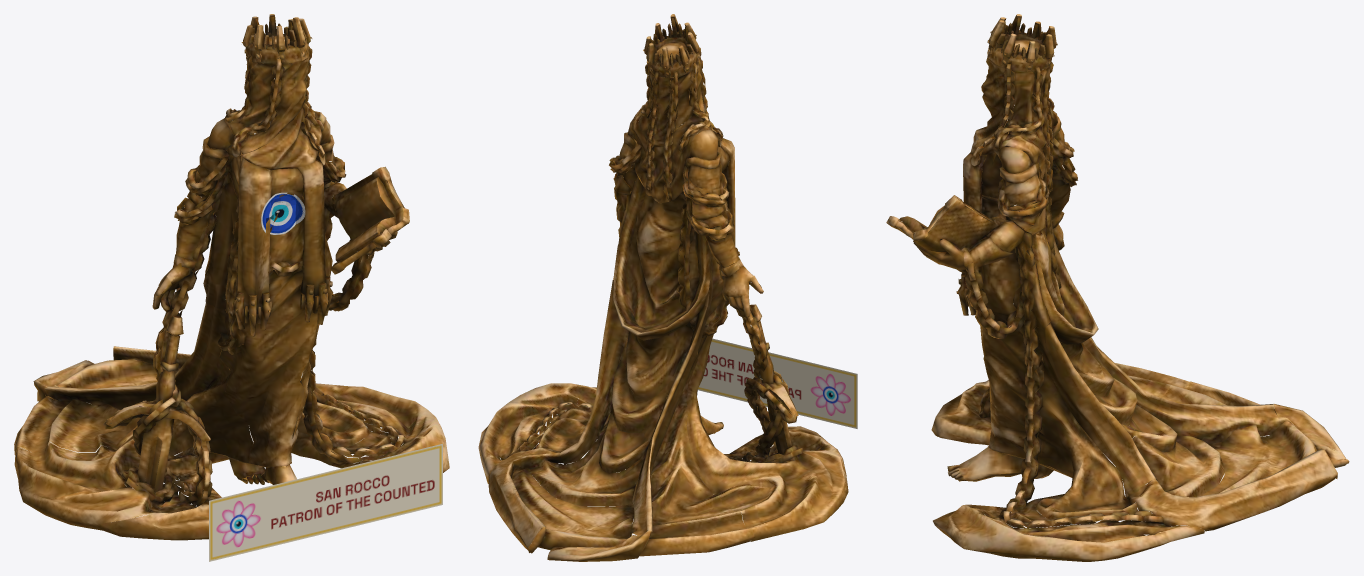
The model's file is nyb_feast_saint.glb.
The picture shows the model from 3 angles, left to right: view 1: azimuth 30°, elevation 25°; view 2: azimuth 150°, elevation 25°; view 3: azimuth 270°, elevation 25°; orthographic projection. The views are drawn at different scales.
Visible parts, largest first — view 1: gothic_statue, add_lbl_18ad00071d.png, stk_nazar_die.png; view 2: gothic_statue, add_lbl_18ad00071d.png; view 3: gothic_statue.
Part boxes in pixels (x1=…): gothic_statue: x1=14, y1=14, x2=449, y2=540; add_lbl_18ad00071d.png: x1=209, y1=443, x2=442, y2=561; stk_nazar_die.png: x1=261, y1=192, x2=305, y2=234; gothic_statue: x1=478, y1=14, x2=848, y2=561; add_lbl_18ad00071d.png: x1=697, y1=338, x2=857, y2=428; gothic_statue: x1=886, y1=14, x2=1349, y2=561.
Bounding box in the file's own units: 1.47 × 1.74 × 1.56.
Materials: 3 (3 with a texture image).
